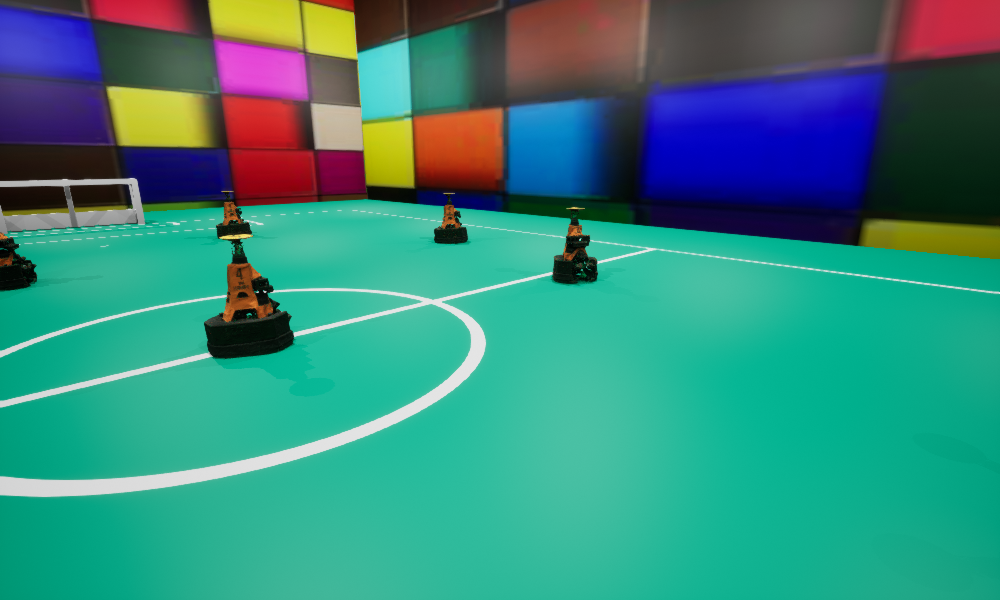o: (204, 234, 293, 358), (552, 207, 597, 283), (0, 232, 36, 290), (434, 193, 467, 243), (216, 191, 251, 238)
